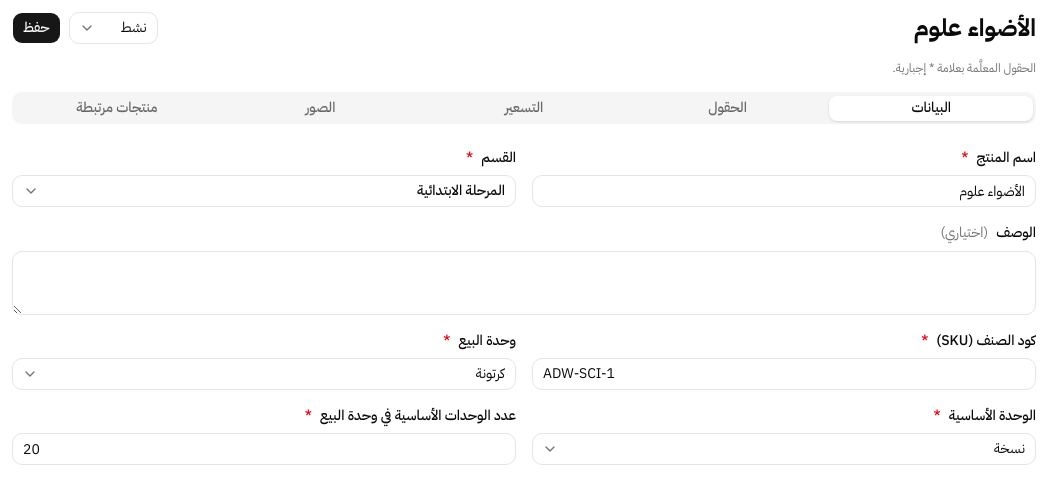
Scenario: ProductForm › puts the backend's field errors on the fields and opens their tab
This screenshot has width=1048, height=482.
Click the button "حفظ". click: (36, 28)
box: [12, 12, 61, 44]
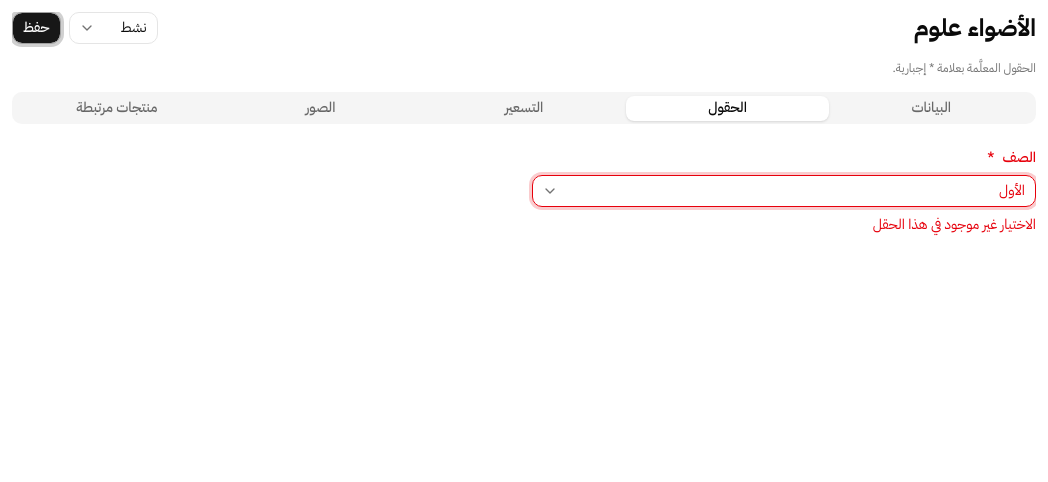
Now the text "الاختيار غير موجود في هذا الحقل" is shown, box [873, 214, 1036, 235]
